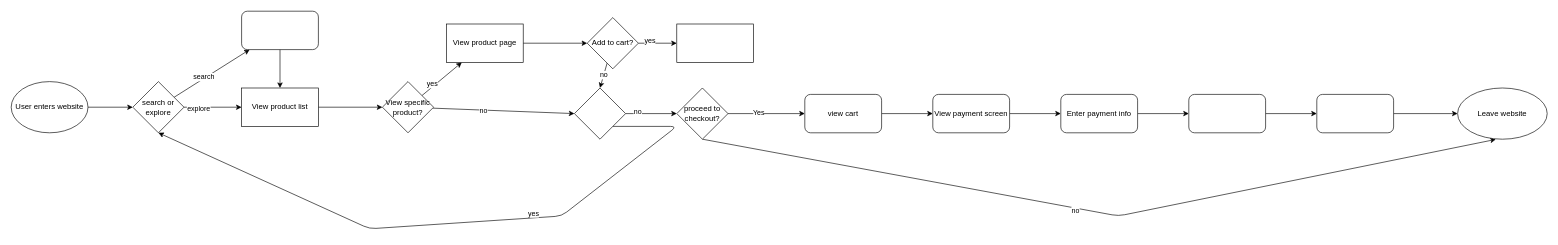
The diagram is 1558 pixels wide and 245 high, and some of its shapes have lost their labels. Each missing label, with the centre of its shape:
Added to cart confirmation: the point at 715,42
Continue shopping?: the point at 600,113
Send confirmation email: the point at 1355,113
Show order confirmation: the point at 1227,113
user enter search: the point at 279,30
